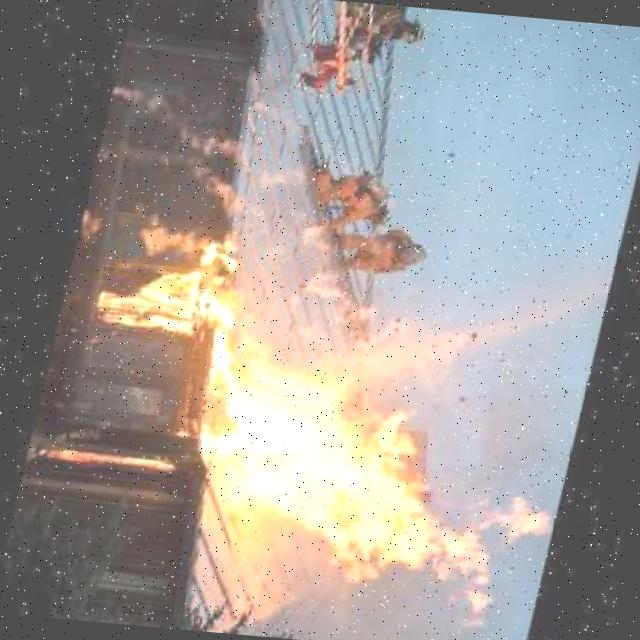fire: (157, 315, 588, 640), (274, 254, 470, 391), (81, 201, 256, 351), (95, 66, 249, 158), (26, 426, 181, 486), (162, 144, 278, 224), (235, 150, 312, 198), (238, 85, 302, 132), (282, 212, 337, 258)
